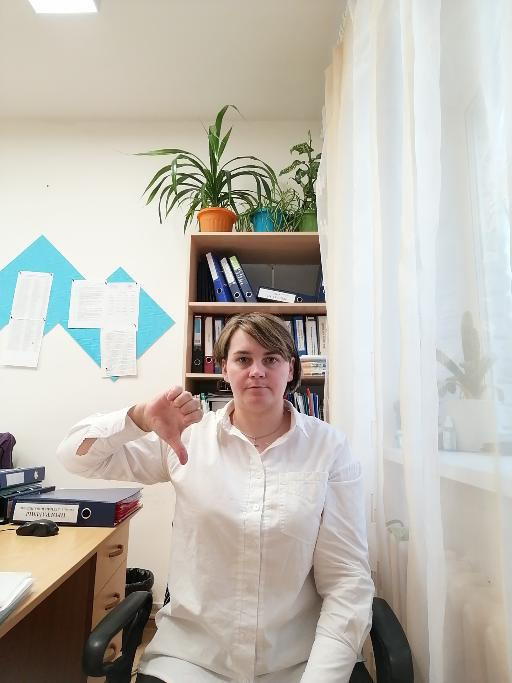dislike: (145, 383, 203, 466)
